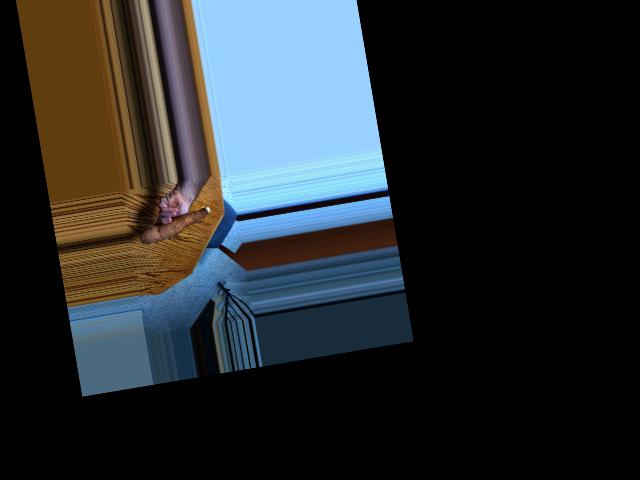sweet_potato: (138, 202, 213, 248)
